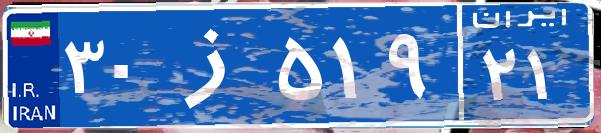0: (110, 28, 158, 105)
1: (330, 28, 385, 110), (525, 38, 570, 115)
2: (475, 38, 525, 113)
3: (57, 26, 110, 107)
5: (273, 28, 330, 110)
9: (385, 28, 445, 110)
ز: (158, 15, 273, 115)
